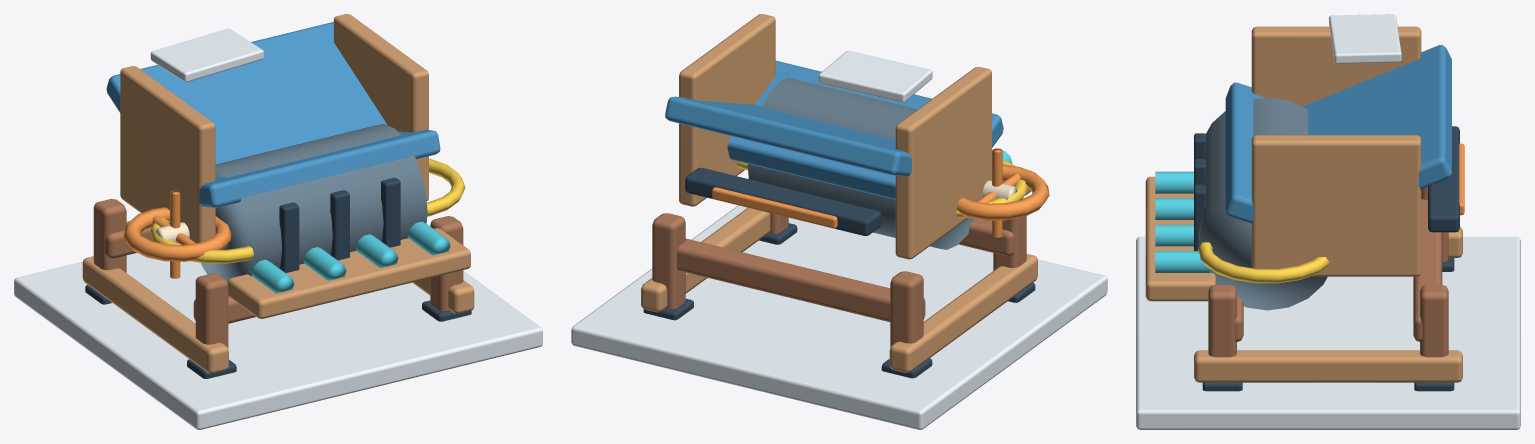
Rendered from intake_machine.glb.
The picture shows the model from 3 angles, left to right: view 1: azimuth 30°, elevation 25°; view 2: azimuth 150°, elevation 25°; view 3: azimuth 270°, elevation 25°; orthographic projection. The views are drawn at different scales.
Visible parts, largest first — view 1: intake_machine; view 2: intake_machine; view 3: intake_machine.
Boxes of the visible parts, <box> form: intake_machine: <box>14,14,542,429</box>; intake_machine: <box>571,14,1107,429</box>; intake_machine: <box>1136,14,1520,429</box>.
Bounding box in the file's own units: 2.6 × 1.95 × 2.4.
